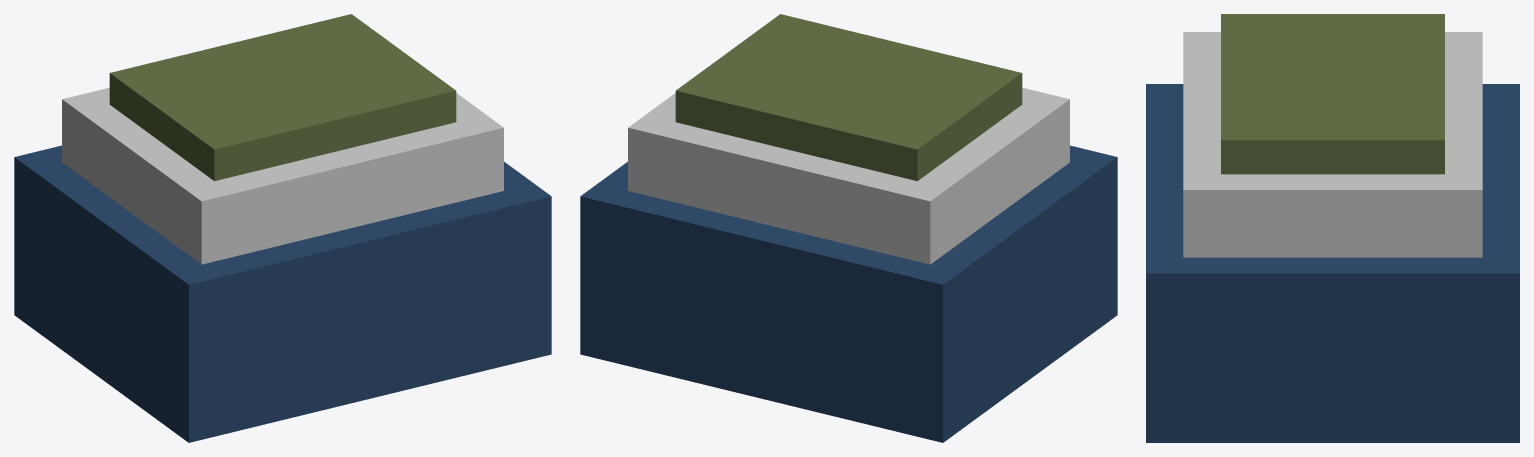
Rendered from camouflage_module.obj.
3 renders of one model, left to right at view 1: azimuth 30°, elevation 25°; view 2: azimuth 150°, elevation 25°; view 3: azimuth 270°, elevation 25°, orthographic. The views are drawn at different scales.
Parts seen in each view (by area): view 1: camouflage_module; view 2: camouflage_module; view 3: camouflage_module.
Boxes of the visible parts, x1,y1,x2,y2 form: camouflage_module: (14,14,551,442); camouflage_module: (580,14,1117,442); camouflage_module: (1146,14,1519,442).
Size of the model in its own units: 0.24 by 0.16 by 0.2.
